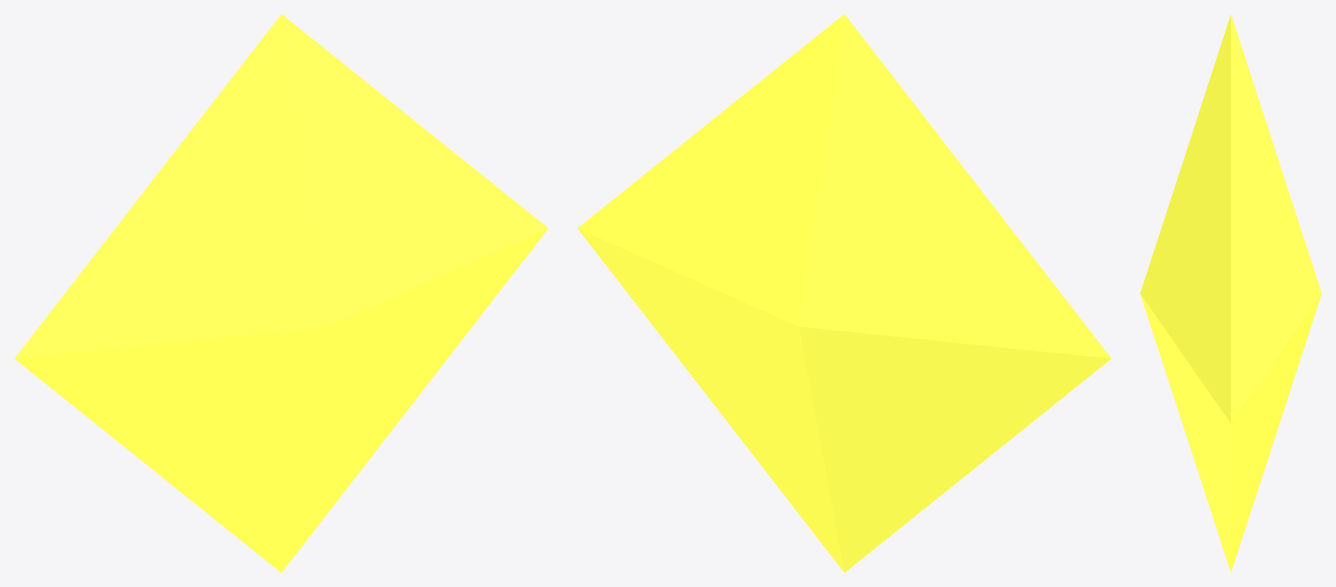
File: Life.fbx
3 renders of one model, left to right at view 1: azimuth 30°, elevation 25°; view 2: azimuth 150°, elevation 25°; view 3: azimuth 270°, elevation 25°, orthographic.
Parts seen in each view (by area): view 1: life; view 2: life; view 3: life.
Part boxes in pixels (left/top/right/bottom): life: left=14, top=14, right=548, bottom=572; life: left=577, top=14, right=1111, bottom=572; life: left=1140, top=15, right=1321, bottom=571.
Bounding box in the file's own units: 2 × 2 × 0.5892.
